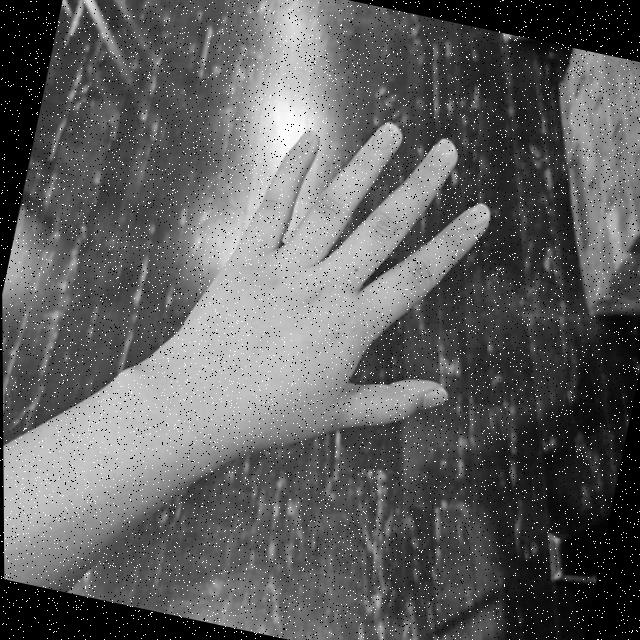hand: (80, 64, 515, 524)
